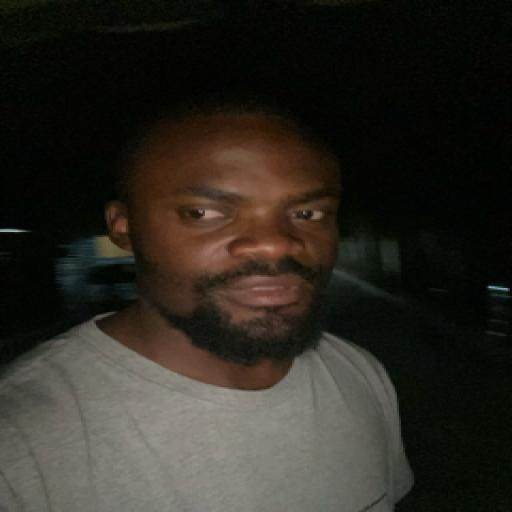JEANLUC: (110, 88, 346, 377)
